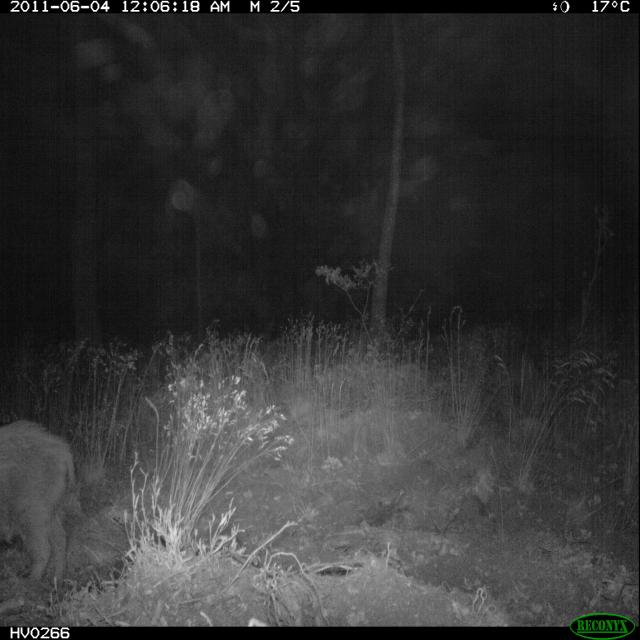boar: (0, 402, 114, 612)
